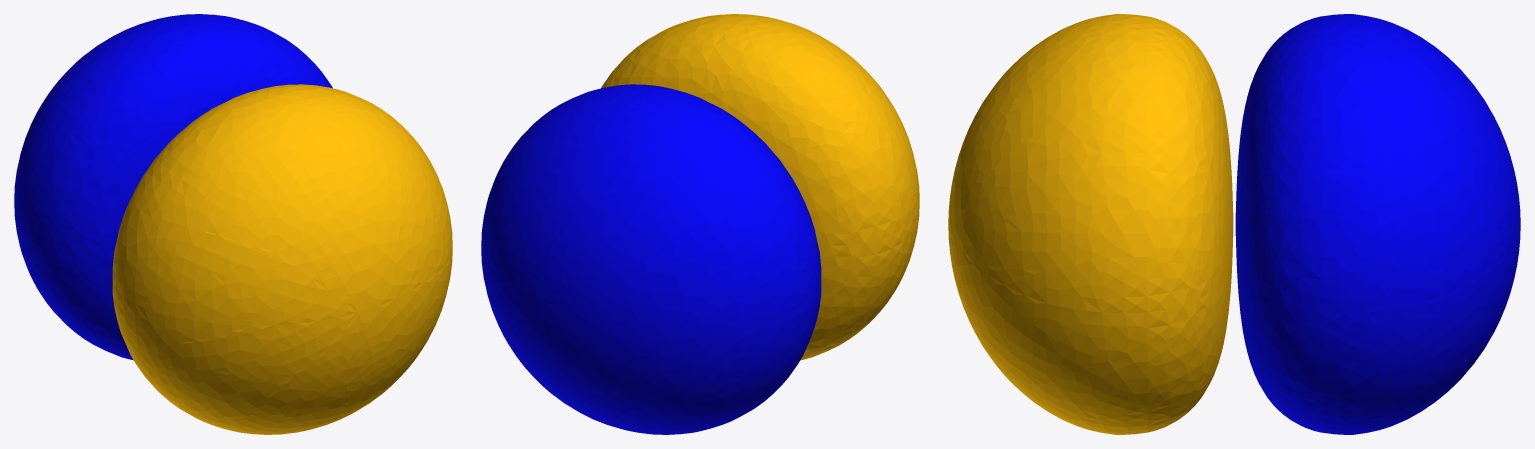
3 renders of one model, left to right at view 1: azimuth 30°, elevation 25°; view 2: azimuth 150°, elevation 25°; view 3: azimuth 270°, elevation 25°, orthographic. The views are drawn at different scales.
Size of the model in its own units: 8.8 by 8.8 by 11.95.
